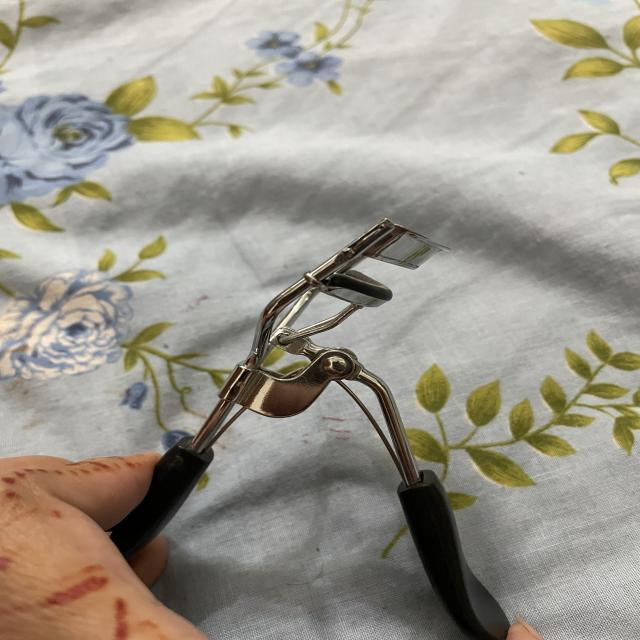eyelash curler: (95, 207, 570, 640)
